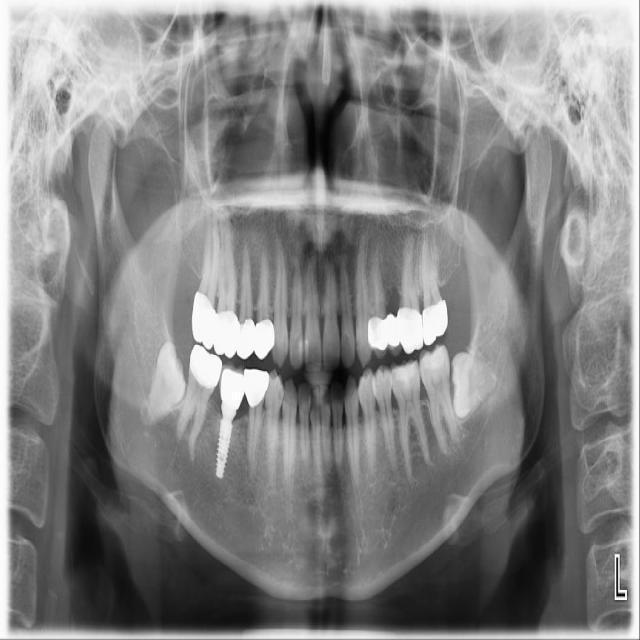Crown: (187, 344, 223, 398), (191, 289, 218, 350), (396, 305, 425, 355), (212, 308, 240, 359), (219, 363, 248, 412), (421, 300, 449, 347), (244, 367, 270, 411), (368, 313, 388, 361), (236, 315, 257, 359), (254, 317, 275, 359), (386, 314, 404, 358)
Filling: (392, 359, 418, 390), (423, 350, 446, 372)
Implant: (217, 406, 236, 478)
impacted tooth: (143, 343, 183, 422), (451, 353, 499, 418)
